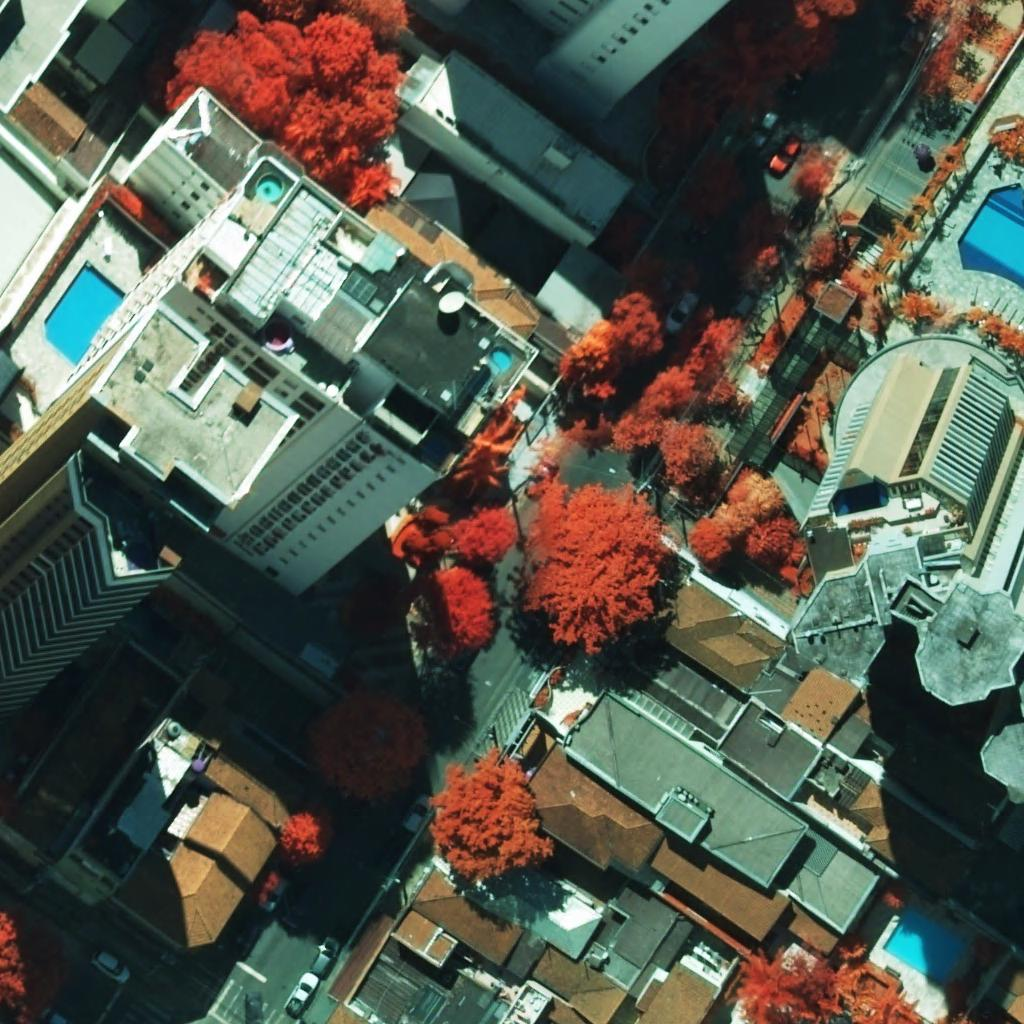pool: (44, 260, 126, 366), (958, 183, 1024, 289), (882, 907, 967, 986), (831, 482, 889, 516), (257, 175, 282, 200), (490, 347, 513, 371)
